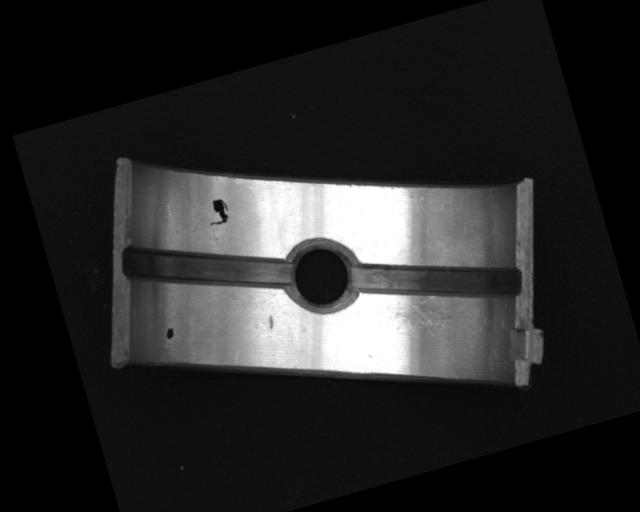blot: (203, 195, 232, 228), (163, 326, 176, 340)
bruise: (265, 313, 276, 330)
gap: (116, 206, 297, 328), (347, 223, 524, 336)
hole: (278, 233, 365, 320)
scratch: (387, 279, 493, 354)
